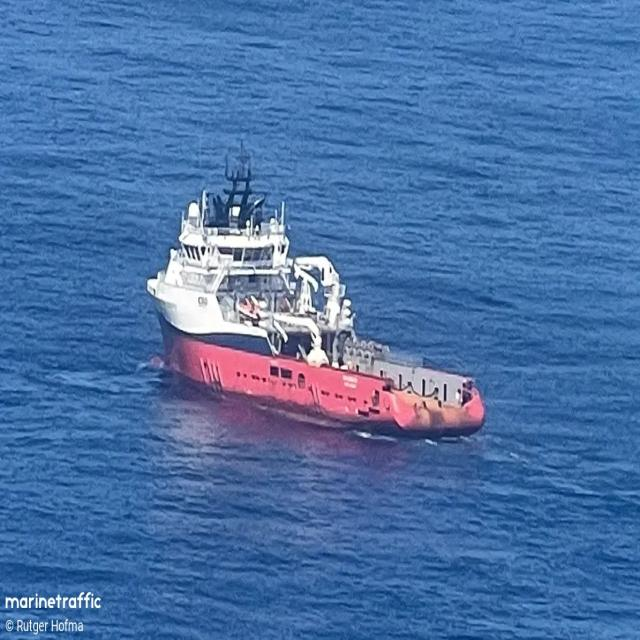Offshore: (147, 151, 484, 437)
